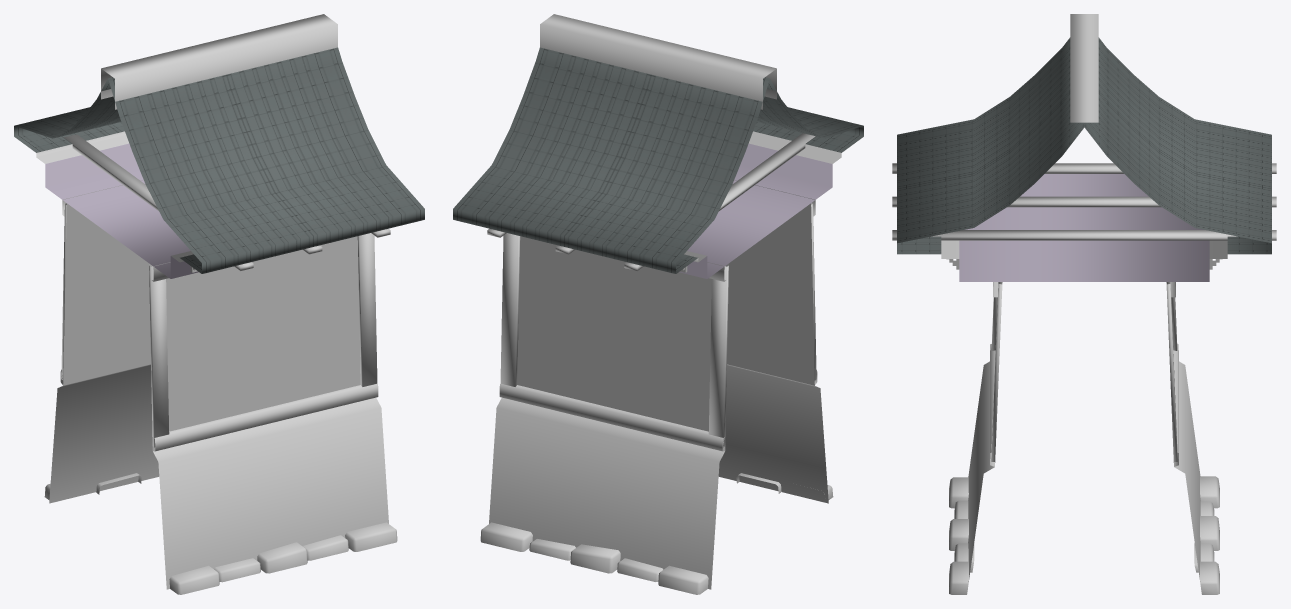
Rendered from Wall_1_4.fbx.
The picture shows the model from 3 angles, left to right: view 1: azimuth 30°, elevation 25°; view 2: azimuth 150°, elevation 25°; view 3: azimuth 270°, elevation 25°; orthographic projection.
Visible parts, largest first — view 1: Wall_1_4; view 2: Wall_1_4; view 3: Wall_1_4.
Boxes of the visible parts, x1,y1,x2,y2 form: Wall_1_4: (14,14,424,594); Wall_1_4: (453,14,863,594); Wall_1_4: (892,14,1276,594).
Bounding box in the file's own units: 4 × 8.12 × 5.98.
